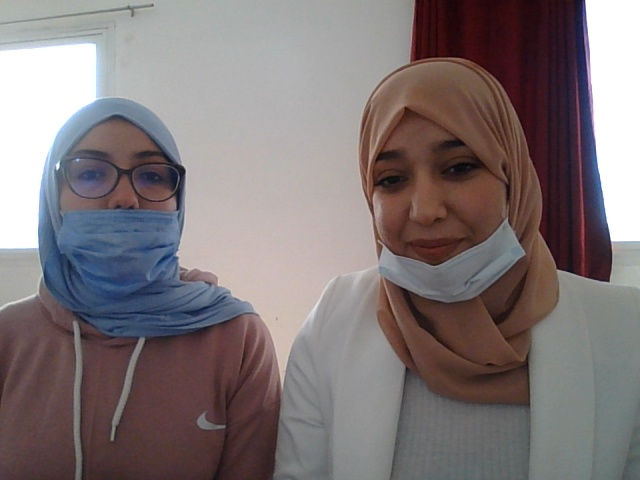mask_weared_incorrect: (337, 67, 550, 302), (40, 111, 220, 322)
